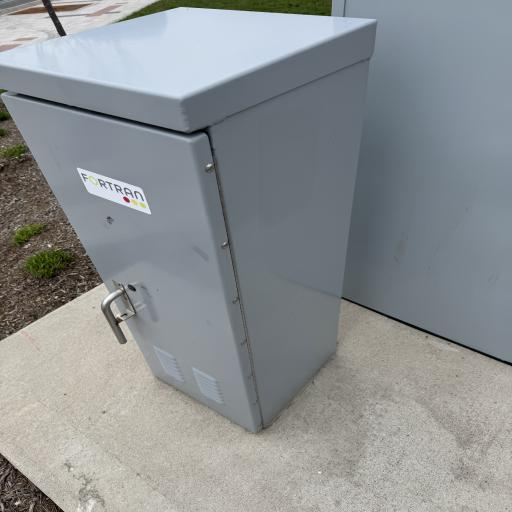Electrical Box: (2, 4, 512, 430)
